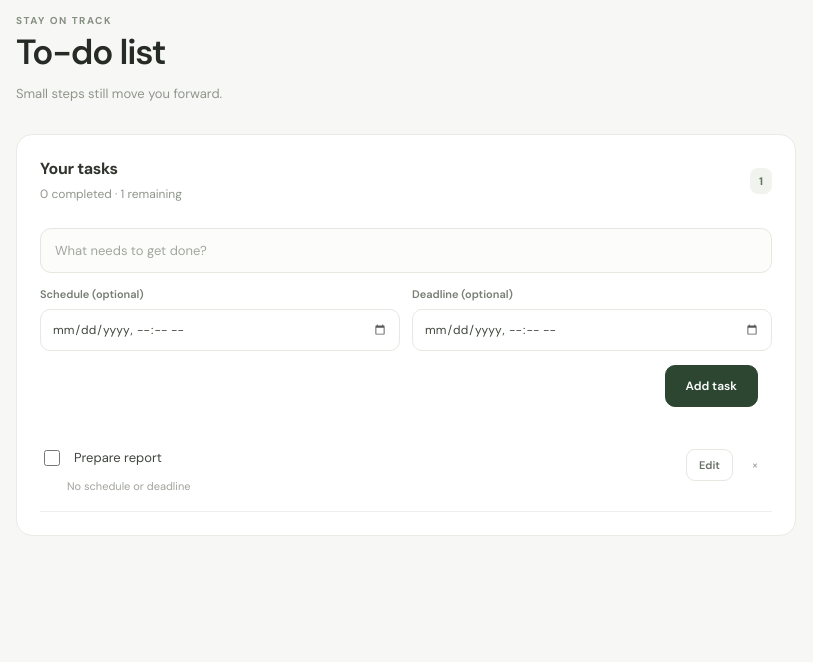
Test: TasksPage › deletes a task
The image size is (813, 662).
expect the text "Prepare report" is shown: met, box [74,448,162,469]
Click the button named "Delete Prepare report" at (755, 465), box [738,448,772,482]
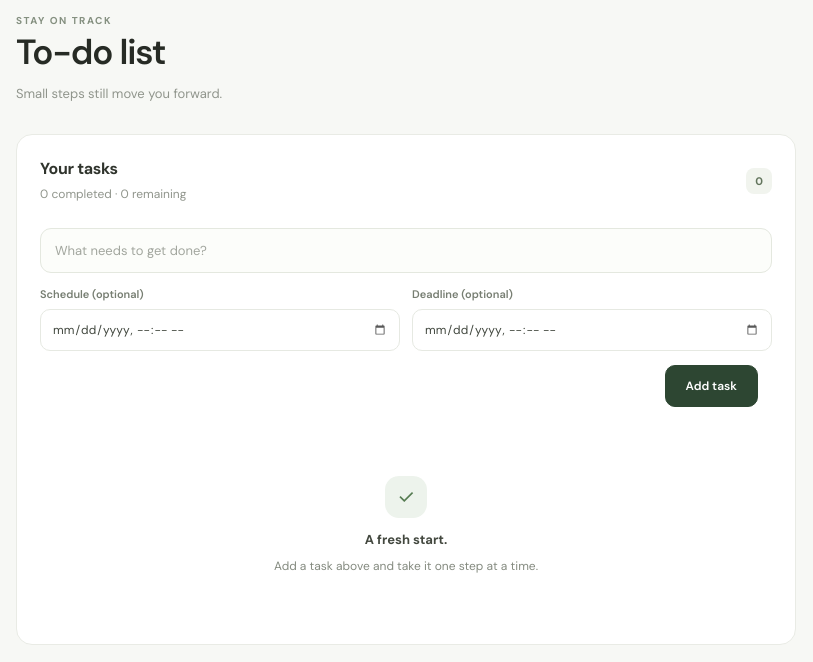
expect the text "A fresh start." is shown: met, box [365,531,447,548]
